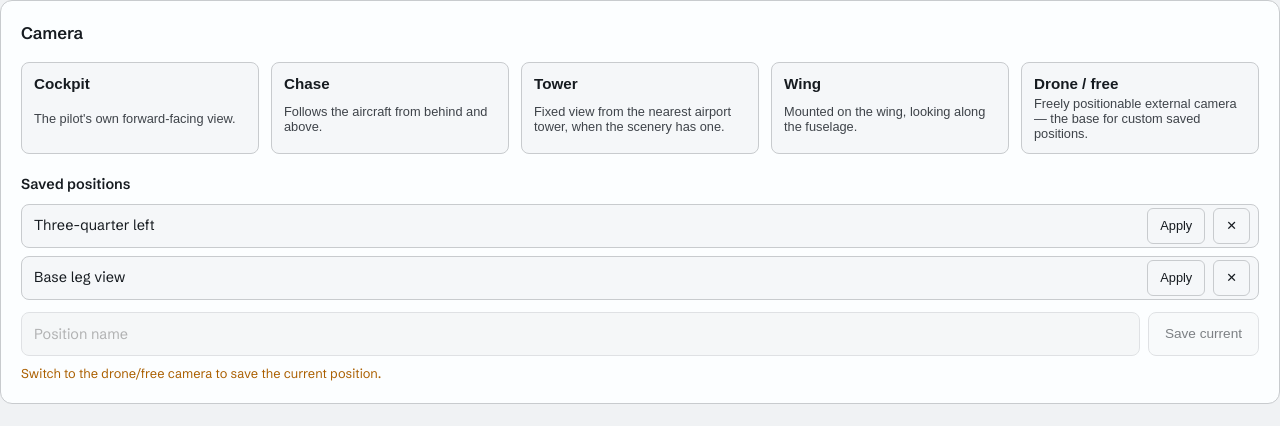
Test case: <CameraPanel /> › states a 422 as the name bound, since FastAPI’s detail is a list
Click the button "Drone".
click(1140, 108)  # box x1=1021 y1=62 x2=1259 y2=154
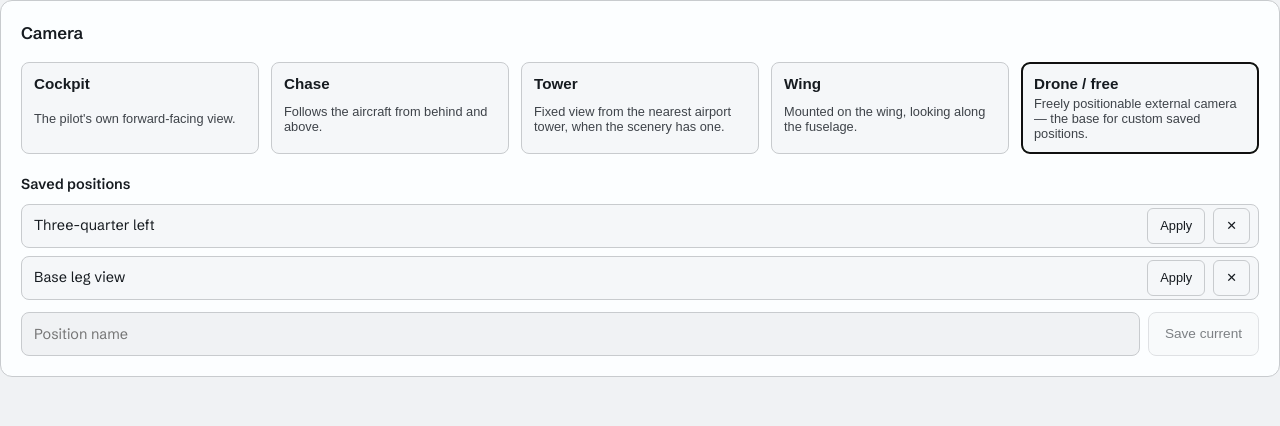
Type "x" into the field labelled "Position name".
click(580, 334); type("x")  # box x1=21 y1=312 x2=1140 y2=356
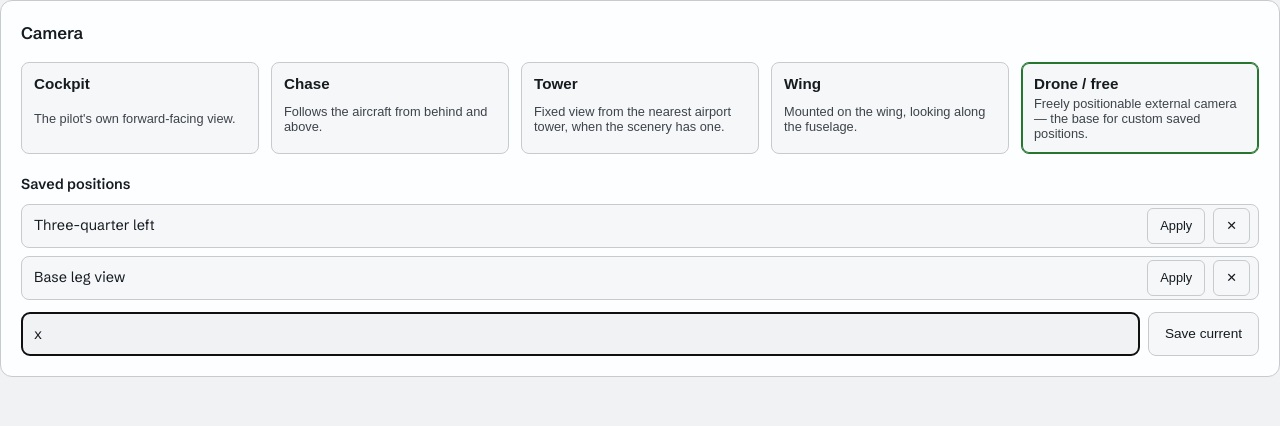
Click the button "Save current".
click(1203, 334)  # box x1=1148 y1=312 x2=1259 y2=356
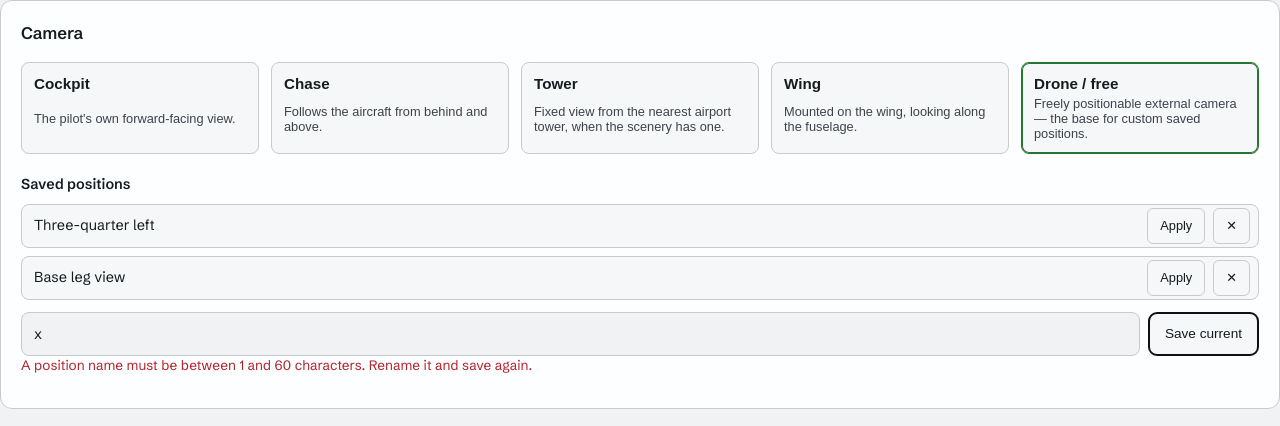
Expected: the message shows "between 1 and 60 characters", x1=21 y1=357 x2=532 y2=374
